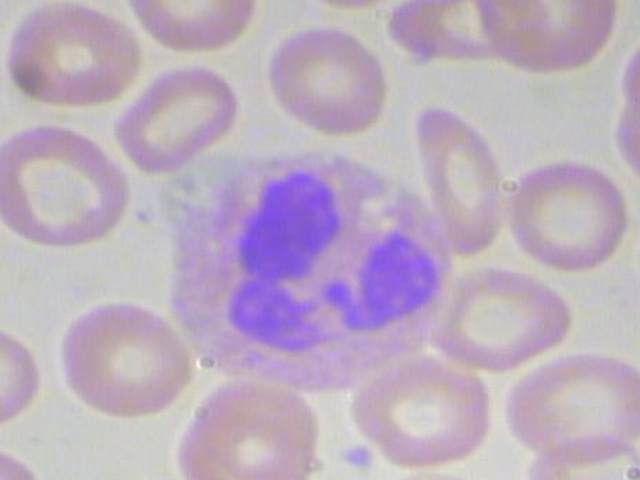Platelets: (329, 443, 380, 470), (113, 472, 192, 480)
RBC: (50, 285, 203, 425), (0, 118, 140, 256), (344, 354, 504, 466), (431, 259, 574, 375), (1, 0, 144, 111), (500, 345, 640, 457), (109, 61, 246, 175), (500, 153, 632, 271), (258, 23, 390, 141), (404, 105, 504, 256), (173, 395, 317, 480), (523, 428, 640, 480), (0, 315, 44, 429), (619, 18, 640, 131), (0, 445, 49, 480), (634, 190, 640, 307)
WBC: (134, 150, 473, 394)
